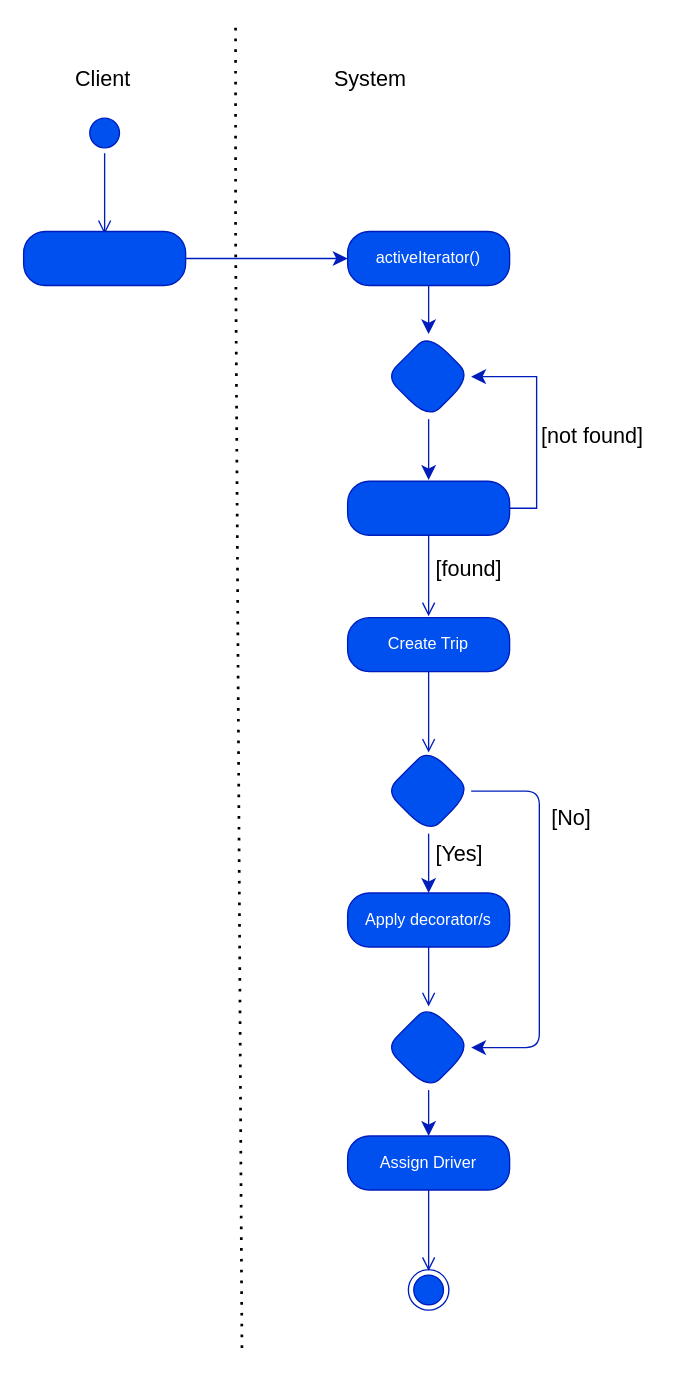
The diagram is 675 pixels wide and 1374 high, and some of its shapes have lost their labels. The centre of each missing label's shape, as x and y in pixels:
Check Capacity: (x=428, y=507)
Request Ride: (x=104, y=258)
